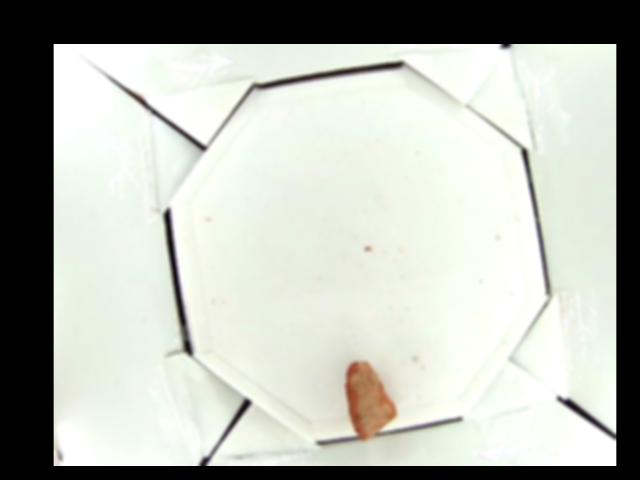Brisk: (344, 358, 394, 441)
